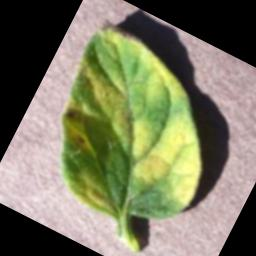Leaf_Mold: (22, 16, 249, 248)
